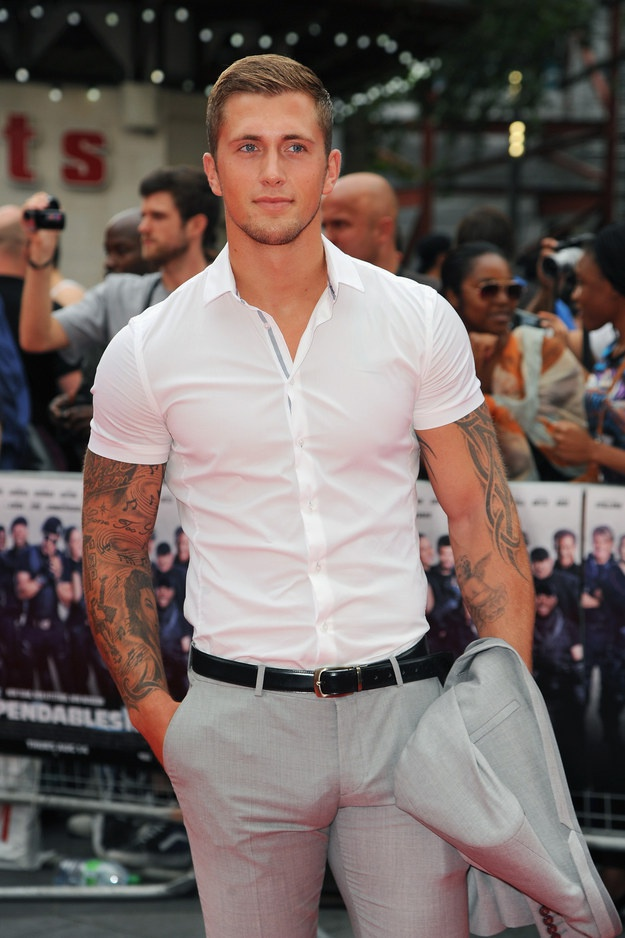bad: (210, 110, 339, 239), (461, 262, 536, 337)
